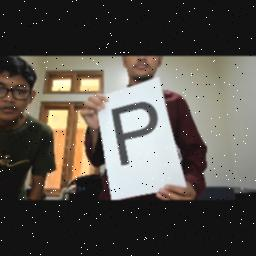p: (108, 98, 164, 168)
